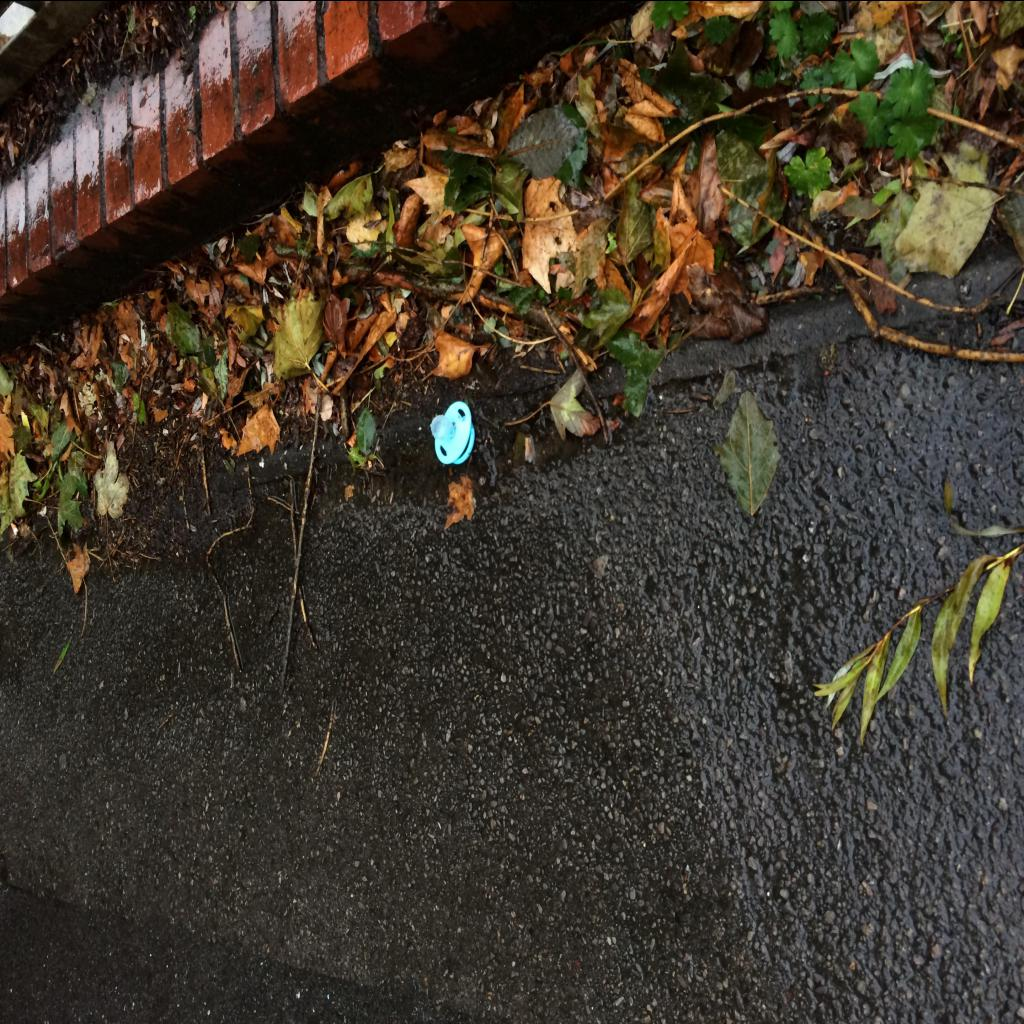Other plastic bottle: (430, 400, 474, 464)
